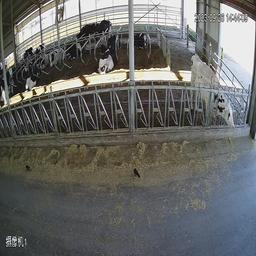cow: (188, 46, 238, 140), (96, 38, 117, 76), (24, 62, 46, 93), (64, 32, 86, 62), (92, 14, 116, 37), (46, 39, 62, 68), (135, 26, 151, 52)
